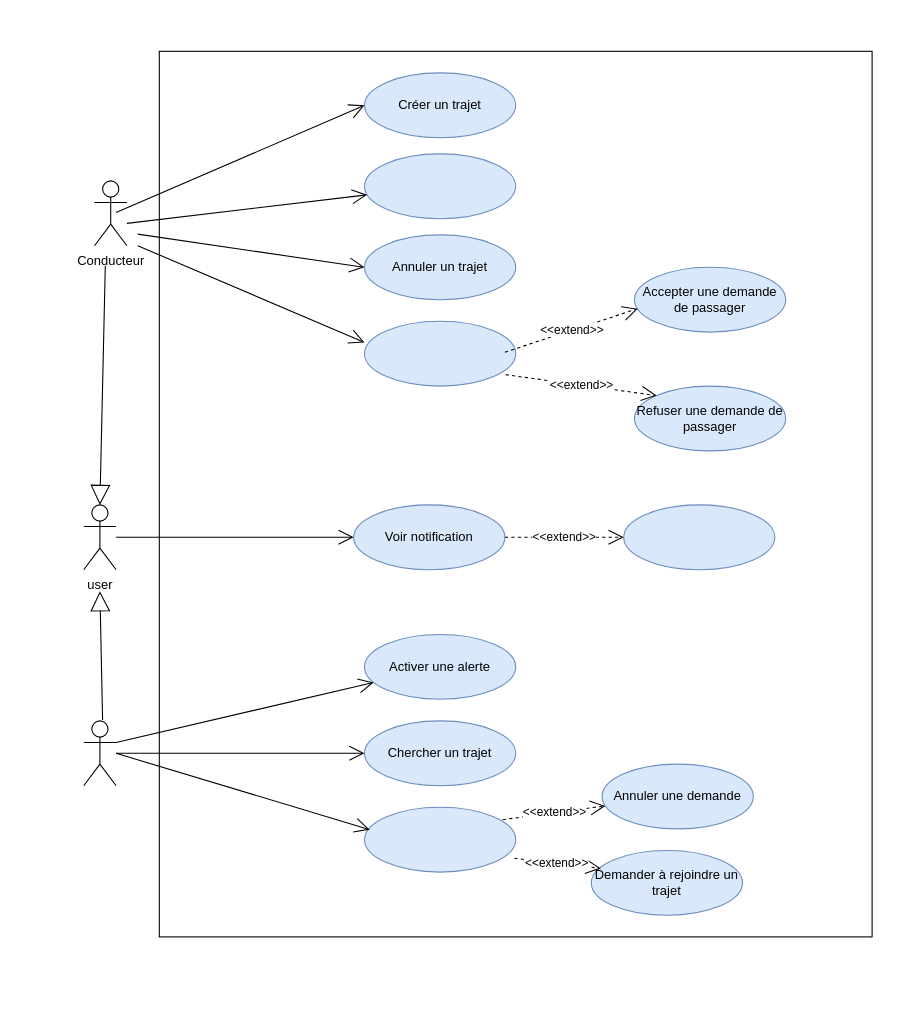
Image size: 922x1009. Some labels were removed from this diagram. The shapes that lost their labels are listed below. From the top down, each one's centre as x and y in pixels, then its label:
At (439,186): "Modifier un trajet".
At (439,353): "Voir les demandes des passagers".
At (699,537): "supprimer notification".
At (99,753): "Passager".
At (439,839): "Voir les trajets disponibles".
